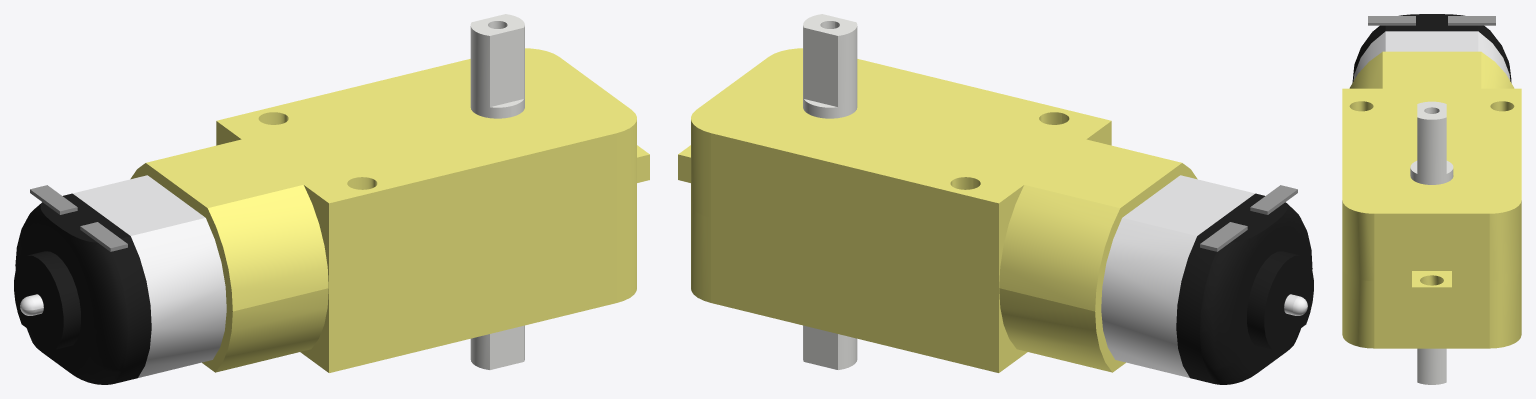
The model's file is adafruit-3777-tt-motor.glb.
3 renders of one model, left to right at view 1: azimuth 30°, elevation 25°; view 2: azimuth 150°, elevation 25°; view 3: azimuth 270°, elevation 25°, orthographic. The views are drawn at different scales.
Parts seen in each view (by area): view 1: body, body_4, body_5, body_2, body_3; view 2: body, body_4, body_5, body_2, body_3; view 3: body, body_2, body_5, body_4, body_3.
Part boxes in pixels (x1,y1,x2,y2): body: [130, 48, 649, 372]; body_4: [14, 193, 151, 384]; body_5: [20, 175, 226, 377]; body_2: [470, 14, 524, 369]; body_3: [30, 185, 127, 251]; body: [678, 48, 1197, 372]; body_4: [1176, 193, 1313, 384]; body_5: [1101, 175, 1307, 377]; body_2: [803, 14, 857, 369]; body_3: [1200, 185, 1297, 251]; body: [1342, 51, 1521, 348]; body_2: [1410, 101, 1453, 384]; body_5: [1353, 31, 1510, 80]; body_4: [1352, 14, 1511, 82]; body_3: [1368, 16, 1495, 25].
Bounding box in the file's own units: 70.6 × 36.6 × 22.4.
